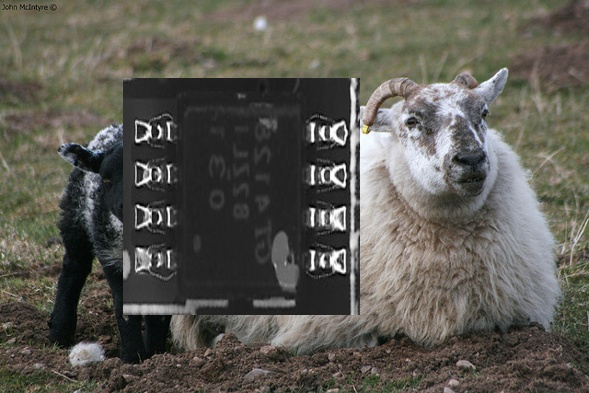PAD: (292, 99, 353, 283), (125, 103, 185, 283)
sheep: (172, 64, 559, 340), (48, 124, 202, 360)
